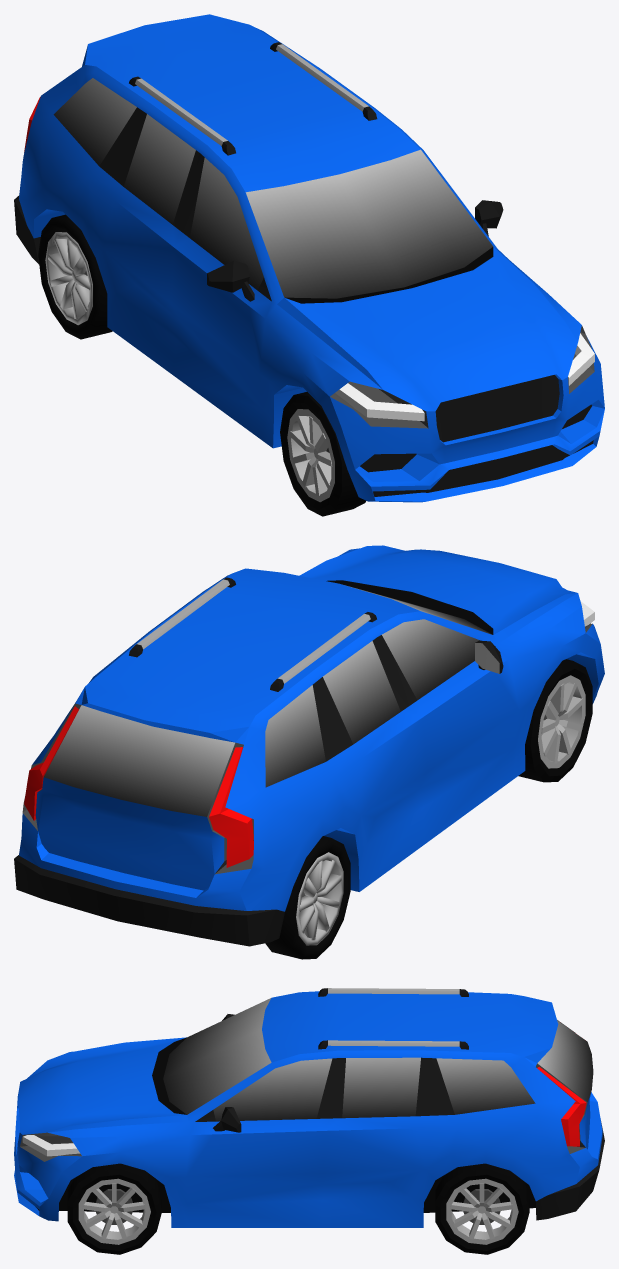
Rendered from suv 4.fbx.
3 renders of one model, top to bottom at view 1: azimuth 30°, elevation 25°; view 2: azimuth 150°, elevation 25°; view 3: azimuth 270°, elevation 25°, orthographic. The views are drawn at different scales.
Parts seen in each view (by area): view 1: Plane, Cylinder.002, Cylinder.003; view 2: Plane, Cylinder.003, Cylinder.002; view 3: Plane, Cylinder, Cylinder.001.
Boxes of the visible parts, <box> form: Plane: <box>14,14,604,502</box>; Cylinder.002: <box>280,392,365,516</box>; Cylinder.003: <box>38,214,112,339</box>; Plane: <box>14,545,604,946</box>; Cylinder.003: <box>265,836,350,959</box>; Cylinder.002: <box>518,659,592,782</box>; Plane: <box>14,988,604,1227</box>; Cylinder: <box>67,1163,161,1254</box>; Cylinder.001: <box>435,1163,529,1254</box>.
Size of the model in its own units: 90.77 by 75.01 by 208.
Materials: 1 (1 with a texture image).
